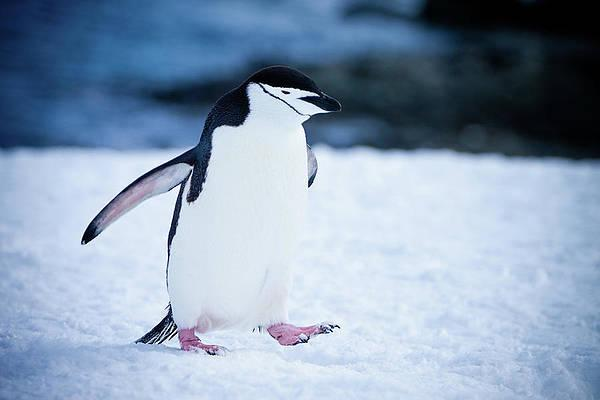chinstrap: (68, 64, 375, 369)
